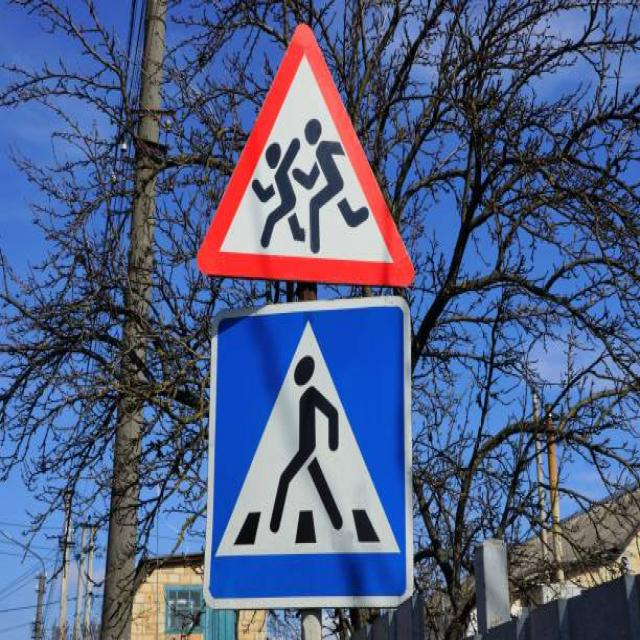crosswalk: (201, 285, 419, 619)
